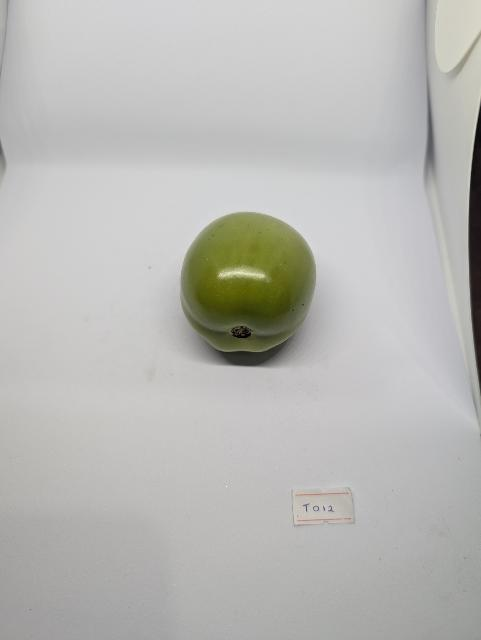green: (178, 206, 322, 357)
